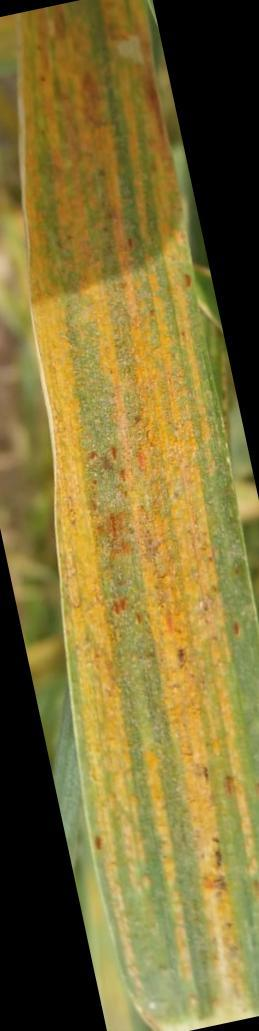Wheat: (64, 277, 207, 532), (118, 734, 259, 984), (36, 18, 159, 263), (74, 546, 235, 715)
